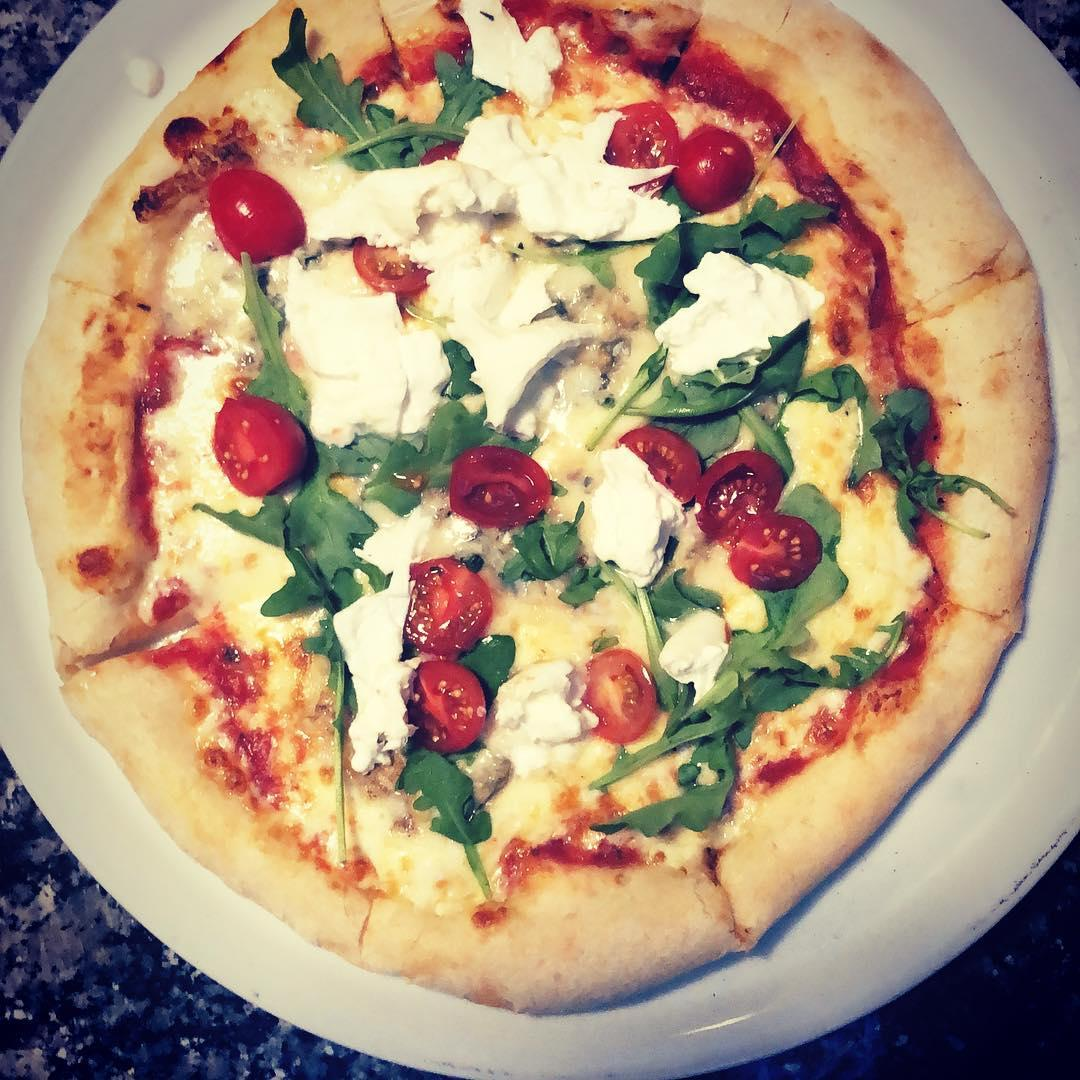Arugula: (192, 460, 391, 731), (250, 7, 509, 177), (593, 306, 866, 467), (832, 355, 1019, 555), (602, 187, 854, 320), (665, 595, 919, 721), (593, 519, 726, 690), (383, 735, 510, 903), (406, 329, 542, 467), (219, 252, 317, 432), (580, 715, 736, 826), (491, 503, 615, 613), (775, 472, 854, 619), (310, 420, 446, 501), (519, 216, 627, 286), (455, 624, 520, 701)
Pizza: (14, 0, 1069, 1032)
Tomatoes: (197, 158, 307, 274), (203, 386, 315, 499), (688, 446, 791, 554), (443, 441, 561, 534), (402, 652, 494, 766), (395, 557, 496, 660), (724, 509, 831, 603), (611, 417, 713, 512), (596, 97, 683, 200), (580, 643, 662, 750), (339, 225, 437, 305), (680, 117, 757, 216)
